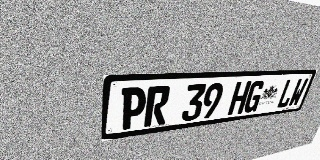3: (181, 83, 207, 122)
9: (199, 82, 225, 119)
G: (242, 80, 266, 113)
H: (227, 81, 252, 115)
L: (275, 79, 298, 109)
P: (119, 87, 147, 130)
R: (143, 85, 171, 127)
W: (287, 78, 309, 107)
